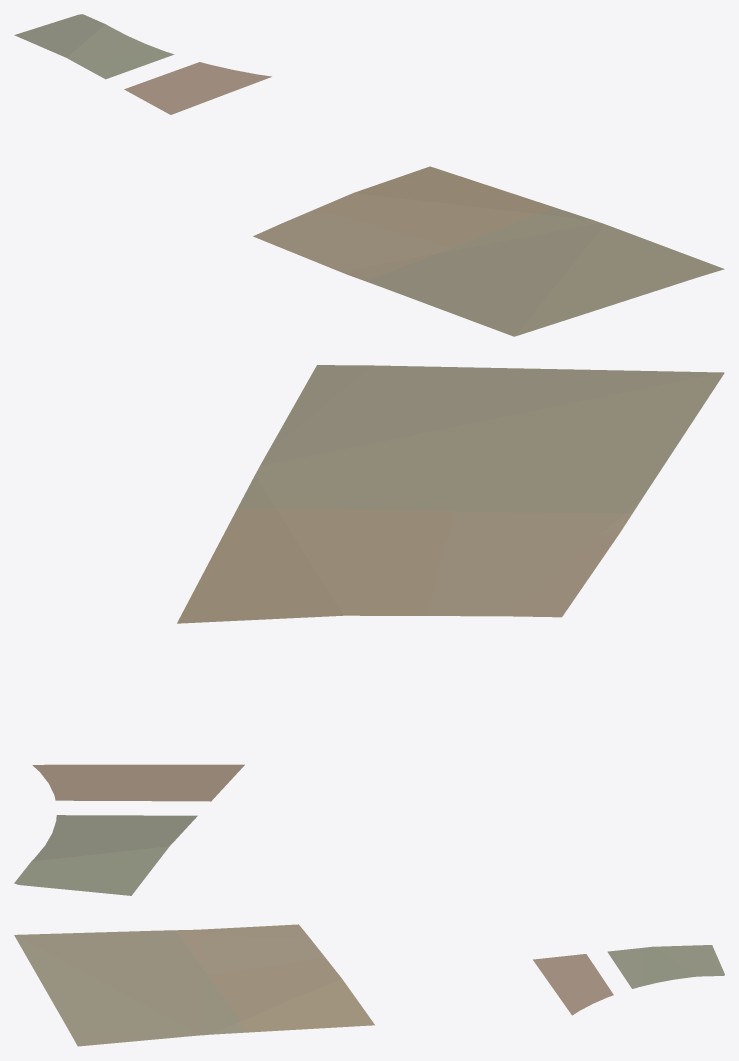
Rendered from farm_27_9_soil.glb.
3 views of the same model, one above another, from view 1: azimuth 30°, elevation 25°; view 2: azimuth 150°, elevation 25°; view 3: azimuth 270°, elevation 25° (orthographic). The views are drawn at different scales.
Visible parts, largest first — view 1: geometry_0; view 2: geometry_0; view 3: geometry_0.
Part boxes in pixels (left/top/right/bottom): geometry_0: left=14, top=14, right=724, bottom=336; geometry_0: left=14, top=365, right=724, bottom=895; geometry_0: left=14, top=924, right=724, bottom=1046.
Size of the model in its own units: 102 by 13.25 by 258.
